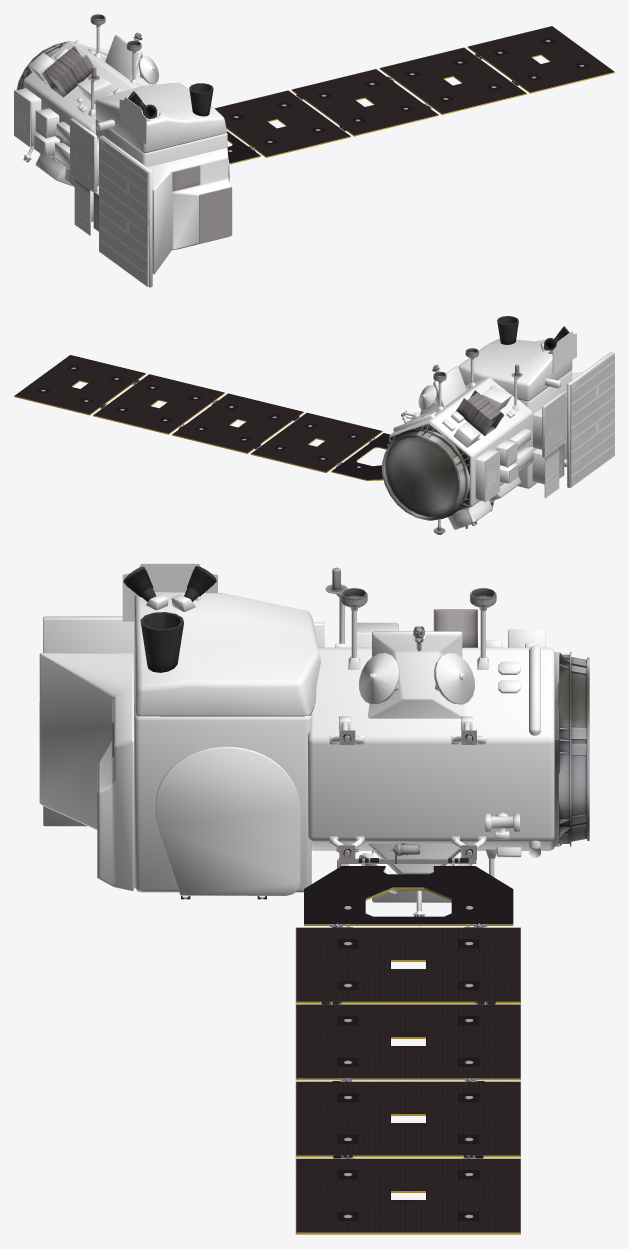
File: ICESat.gltf
The picture shows the model from 3 angles, top to bottom: view 1: azimuth 30°, elevation 25°; view 2: azimuth 150°, elevation 25°; view 3: azimuth 270°, elevation 25°; orthographic projection. The views are drawn at different scales.
Visible parts, largest first — view 1: node_BUS_-2806, node_solar_panels_-2816, node_instruments_-2814; view 2: node_instruments_-2814, node_solar_panels_-2816, node_BUS_-2806; view 3: node_BUS_-2806, node_solar_panels_-2816, node_instruments_-2814, node_hinges_-2812.
Part boxes in pixels (left/top/right/bottom): node_BUS_-2806: left=16, top=24, right=232, bottom=287; node_solar_panels_-2816: left=215, top=26, right=614, bottom=157; node_instruments_-2814: left=14, top=14, right=260, bottom=286; node_instruments_-2814: left=331, top=316, right=614, bottom=534; node_solar_panels_-2816: left=14, top=355, right=382, bottom=473; node_BUS_-2806: left=389, top=331, right=613, bottom=529; node_BUS_-2806: left=39, top=563, right=554, bottom=915; node_solar_panels_-2816: left=295, top=927, right=520, bottom=1234; node_instruments_-2814: left=44, top=566, right=589, bottom=927; node_hinges_-2812: left=181, top=858, right=495, bottom=1158.
Size of the model in its own units: 7.34 by 2.31 by 3.63.
9 materials, 1 textured.
